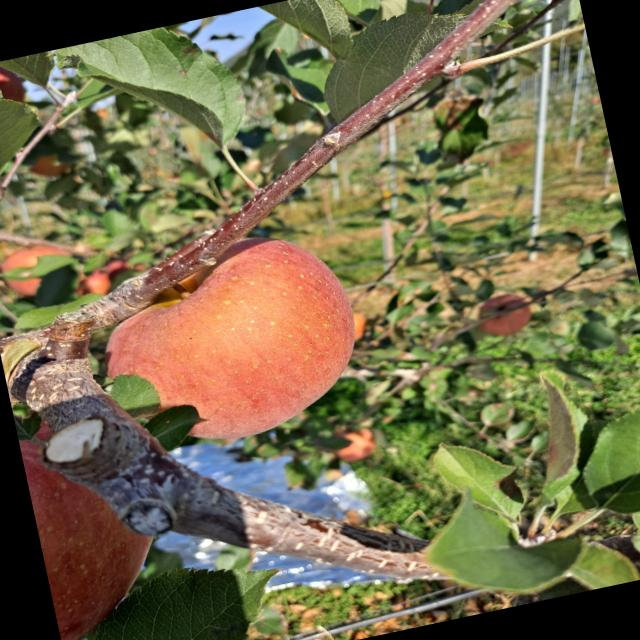fresh: (79, 210, 386, 470)
